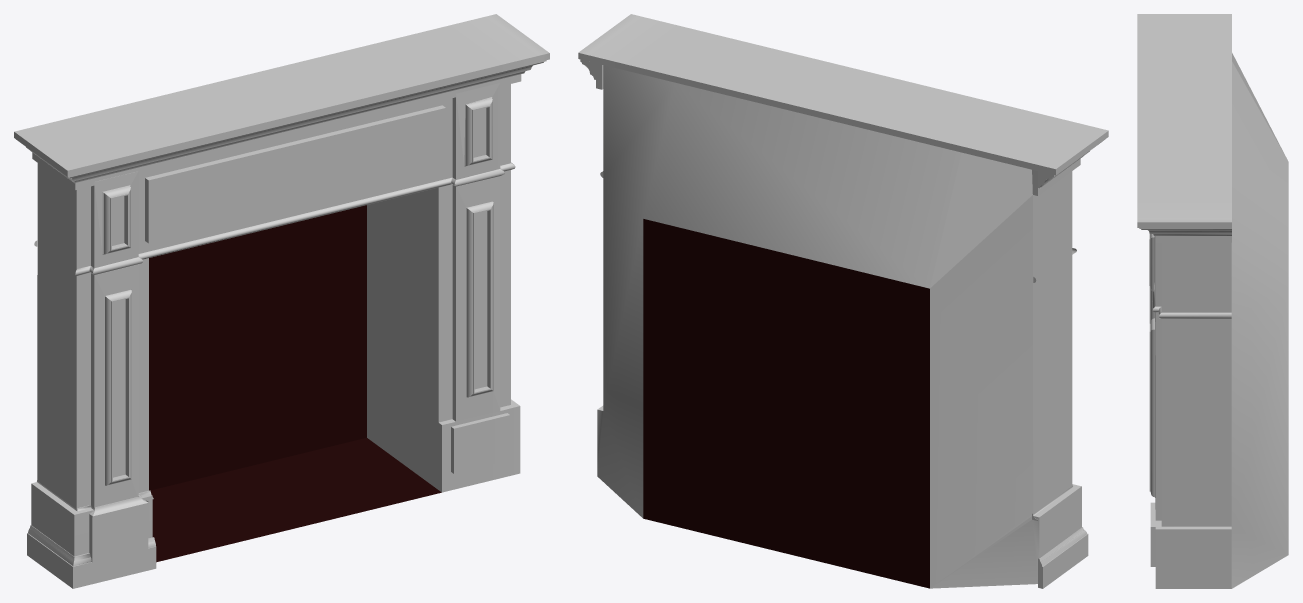
The model's file is fireplace.gltf.
The picture shows the model from 3 angles, left to right: view 1: azimuth 30°, elevation 25°; view 2: azimuth 150°, elevation 25°; view 3: azimuth 270°, elevation 25°; orthographic projection. The views are drawn at different scales.
Visible parts, largest first — view 1: fireplace; view 2: fireplace; view 3: fireplace.
Part boxes in pixels (box(x1,y1,x2,y2)): fireplace: box(14, 14, 549, 588); fireplace: box(578, 14, 1108, 588); fireplace: box(1137, 14, 1288, 588).
Bounding box in the file's own units: 10.61 × 8.97 × 3.25.
1 material, 1 textured.
